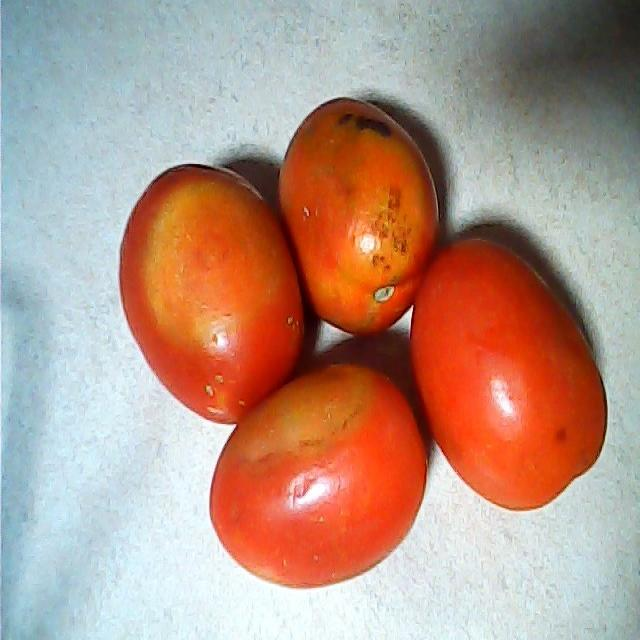defectuoso: (277, 94, 439, 344)
maduro: (406, 233, 609, 520), (110, 158, 309, 430), (202, 358, 428, 588)
